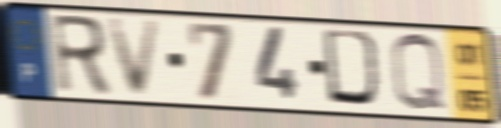4: (253, 23, 307, 109)
7: (186, 19, 239, 105)
D: (320, 26, 388, 113)
Q: (387, 30, 450, 116)
R: (47, 11, 115, 99)
V: (103, 17, 166, 101)
